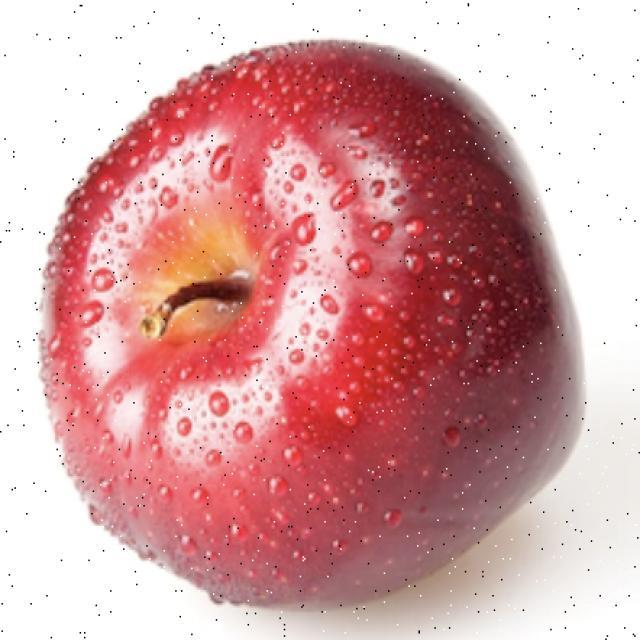Fresh Apple: (45, 54, 578, 604)
